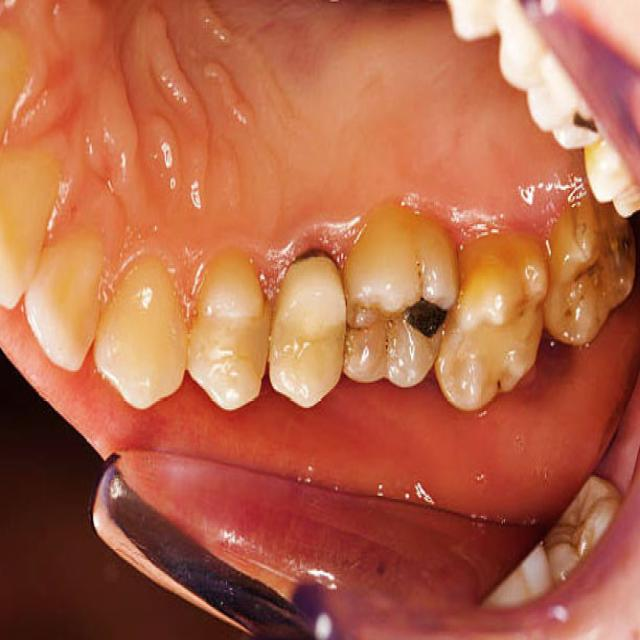caries: (404, 294, 447, 345), (291, 230, 338, 275)
